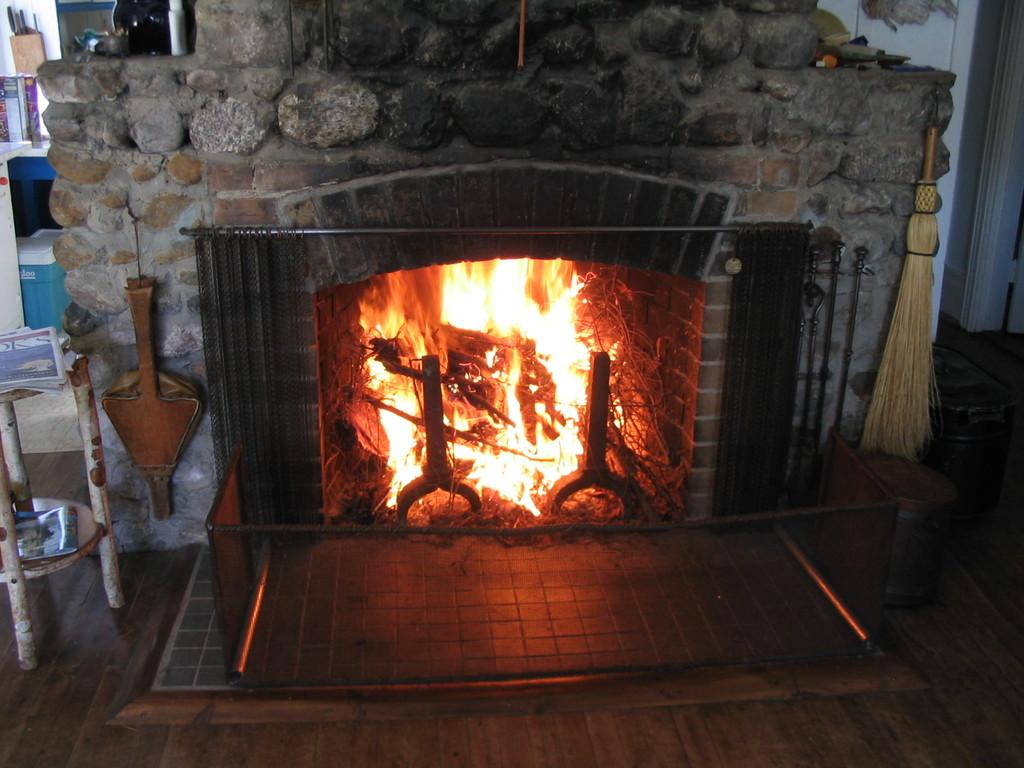Fire: (349, 259, 643, 518)
